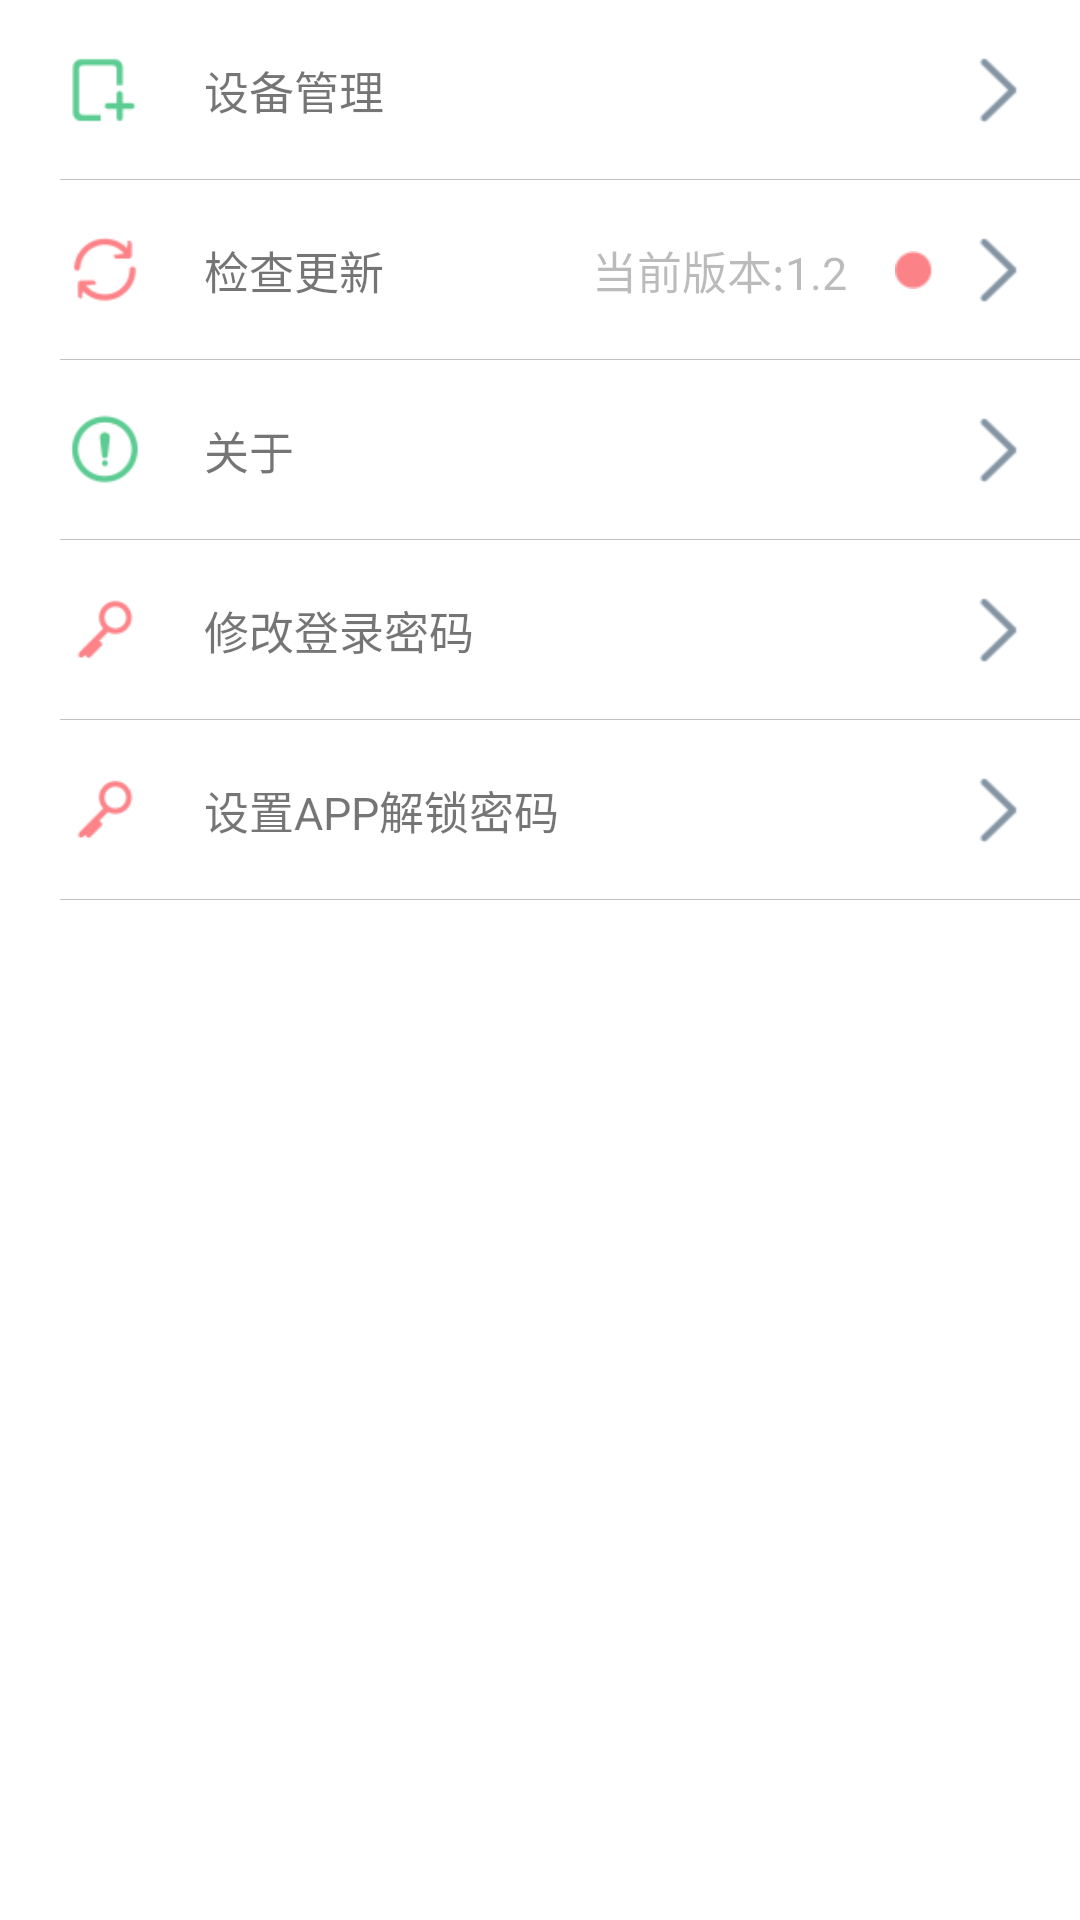

Where to tap for icons on this 1080*1920 app screen, as [x,y]:
about: [105,449]
refresh: [105,269]
secret: [105,629], [105,809]
